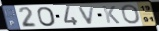2: (18, 6, 39, 29)
4: (63, 6, 79, 27)
K: (101, 5, 121, 25)
O: (36, 6, 58, 28), (120, 4, 142, 25)
V: (77, 6, 97, 25)
